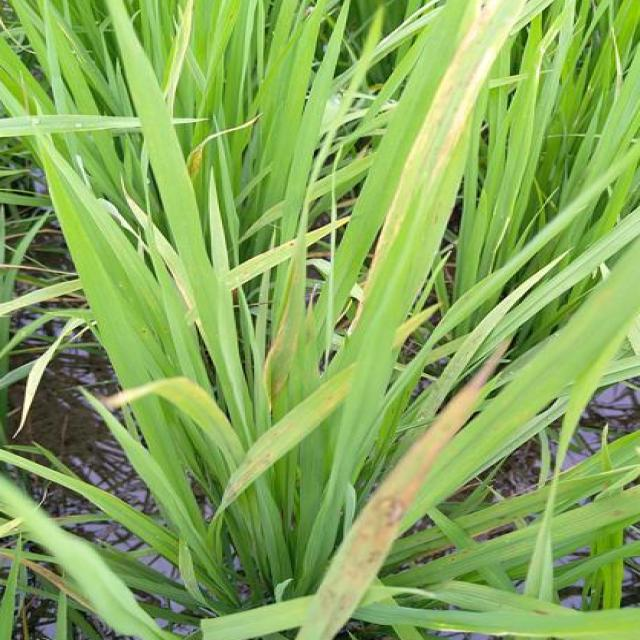Leaf Streak: (305, 336, 510, 625), (364, 0, 506, 299), (213, 371, 352, 518), (259, 287, 303, 424)
